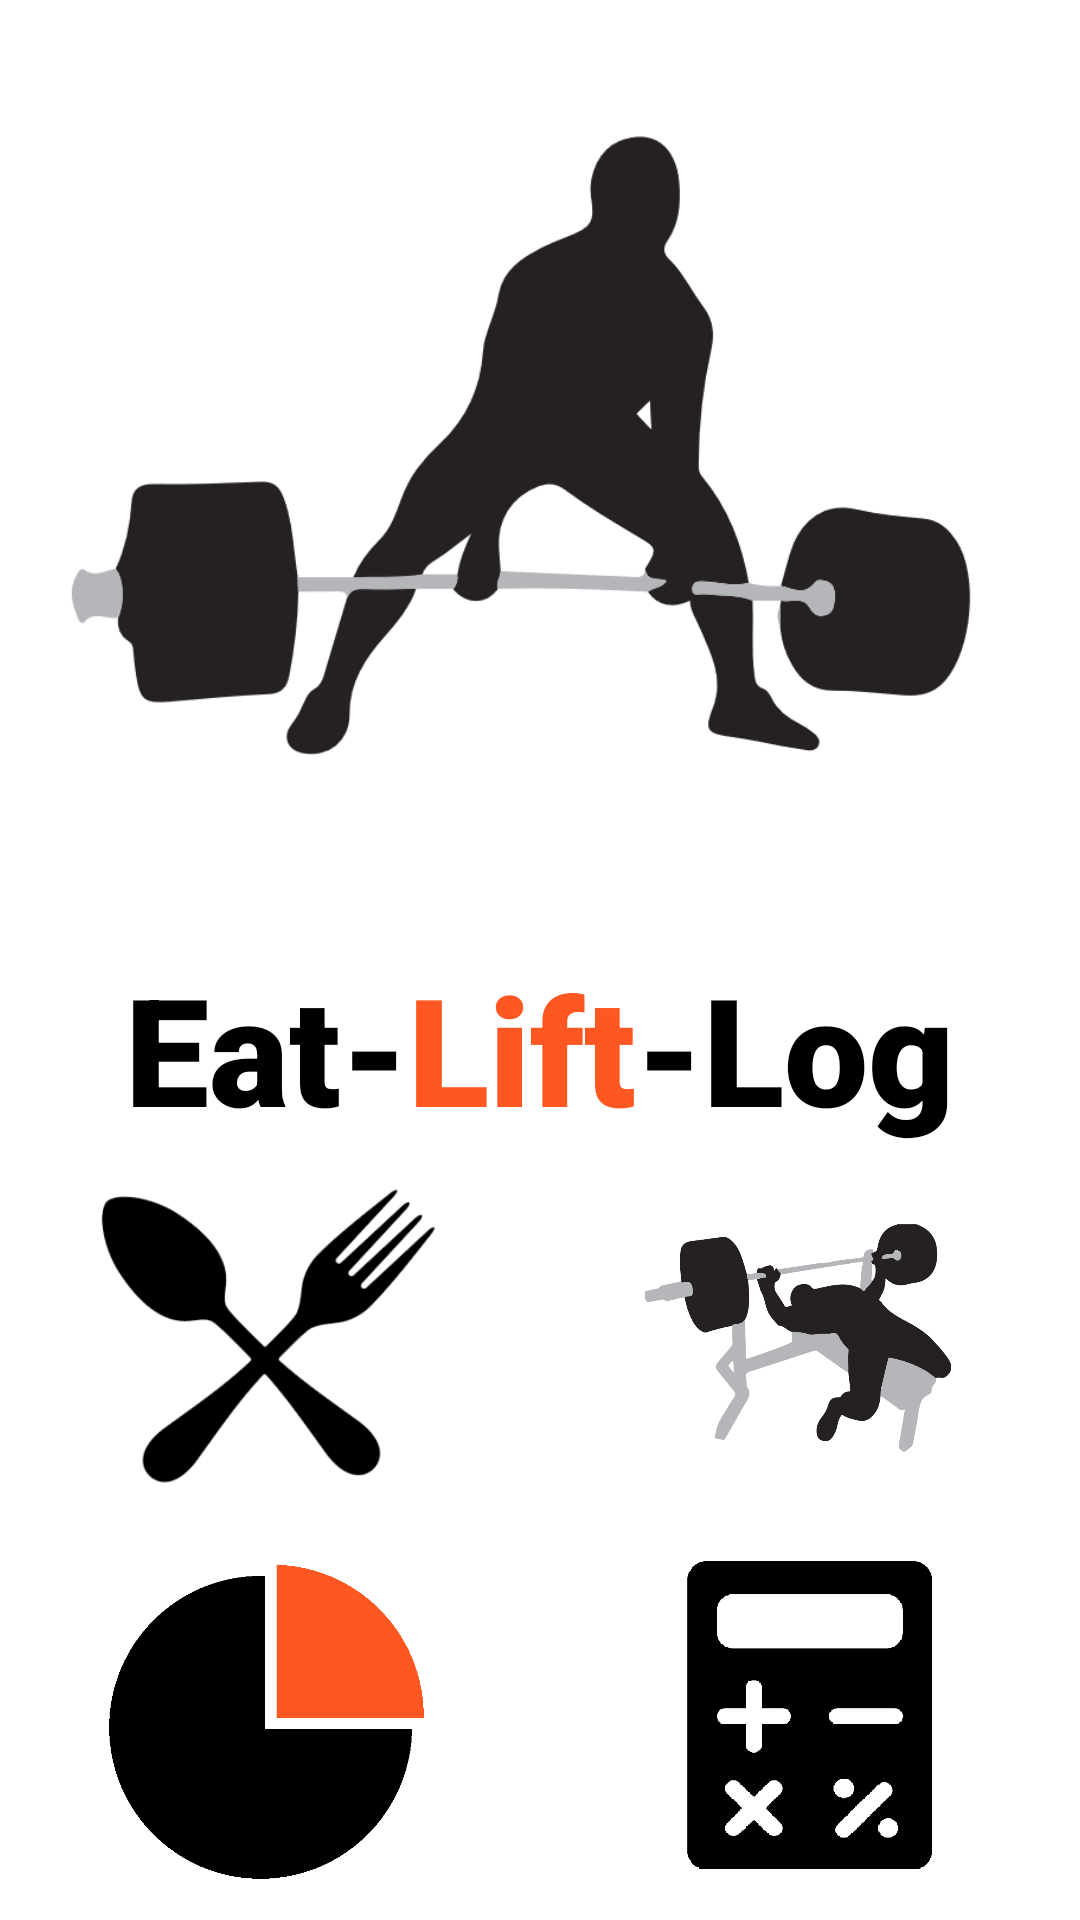

Icon click points for this 1080×1920 phone screenshot, format [x,y]:
benchpress: [798,1338]
calculator: [809,1715]
chartp: [266,1721]
food: [268,1336]
